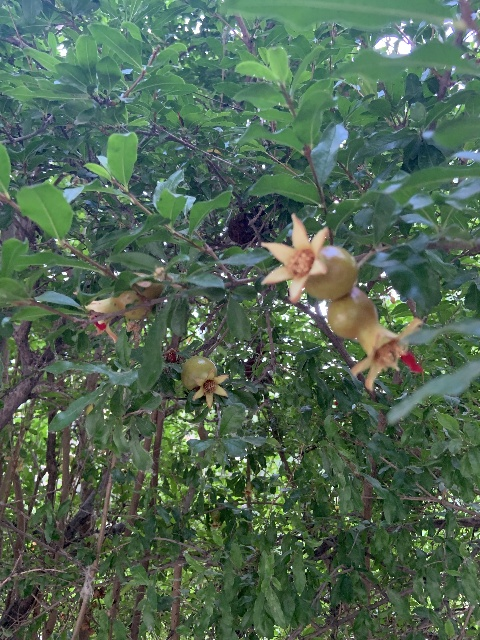early-fruit: (327, 287, 424, 390), (259, 212, 355, 304), (85, 284, 163, 342), (208, 509, 225, 529), (241, 481, 255, 497)
mid-growth: (181, 356, 229, 409)
